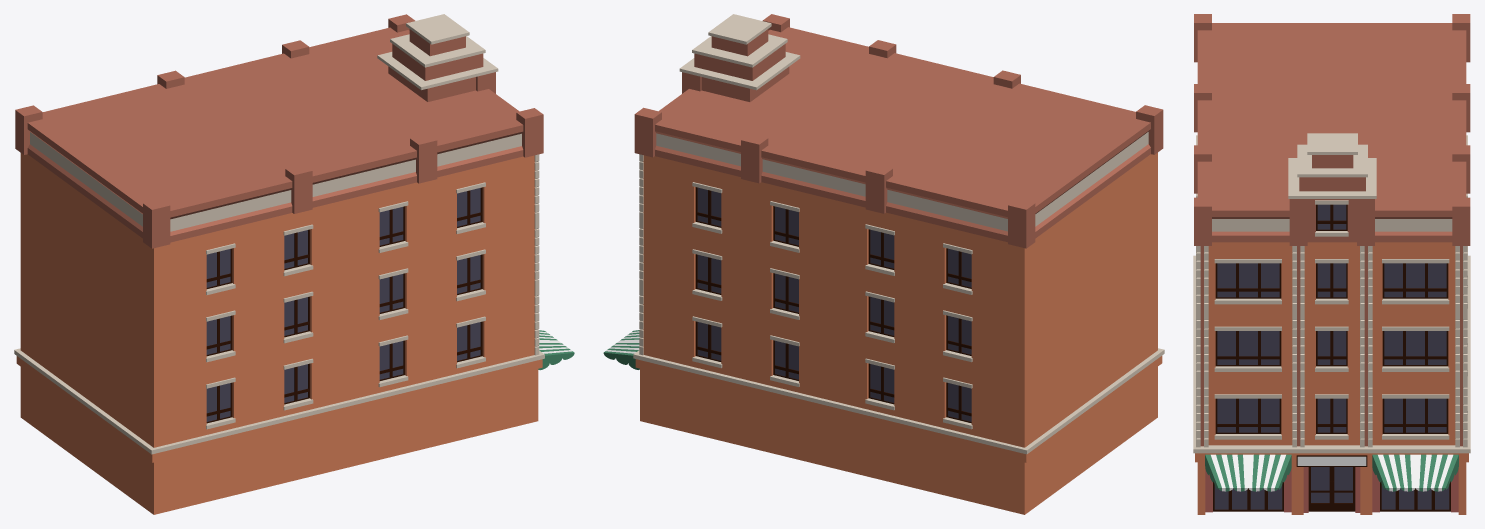
Rendered from Building9.fbx.
The picture shows the model from 3 angles, left to right: view 1: azimuth 30°, elevation 25°; view 2: azimuth 150°, elevation 25°; view 3: azimuth 270°, elevation 25°; orthographic projection.
Visible parts, largest first — view 1: Plane.045, Plane.077, Plane.044, Plane.040, Plane.043; view 2: Plane.045, Plane.077, Plane.044, Plane.040, Plane.043; view 3: Plane.045, Plane.077, Plane.040, Plane.044, Plane.043.
Boxes of the visible parts, x1,y1,x2,y2 form: Plane.045: (15, 14, 543, 248); Plane.077: (14, 330, 574, 514); Plane.044: (20, 216, 539, 380); Plane.040: (20, 283, 539, 447); Plane.043: (20, 153, 539, 313); Plane.045: (634, 14, 1163, 248); Plane.077: (603, 330, 1164, 514); Plane.044: (639, 216, 1157, 380); Plane.040: (639, 283, 1157, 447); Plane.043: (639, 152, 1157, 313); Plane.045: (1194, 14, 1470, 245); Plane.077: (1193, 255, 1470, 514); Plane.040: (1196, 279, 1467, 447); Plane.044: (1196, 246, 1467, 379); Plane.043: (1196, 135, 1467, 311).
Bounding box in the file's own units: 3397 × 2628 × 1858.
